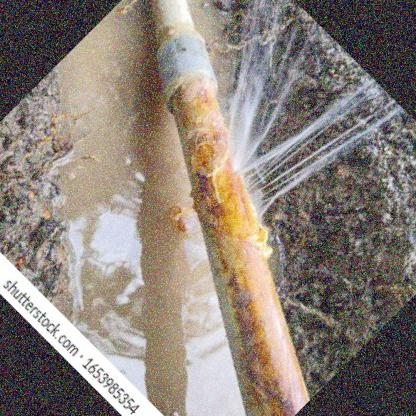burst: (225, 132, 282, 235)
